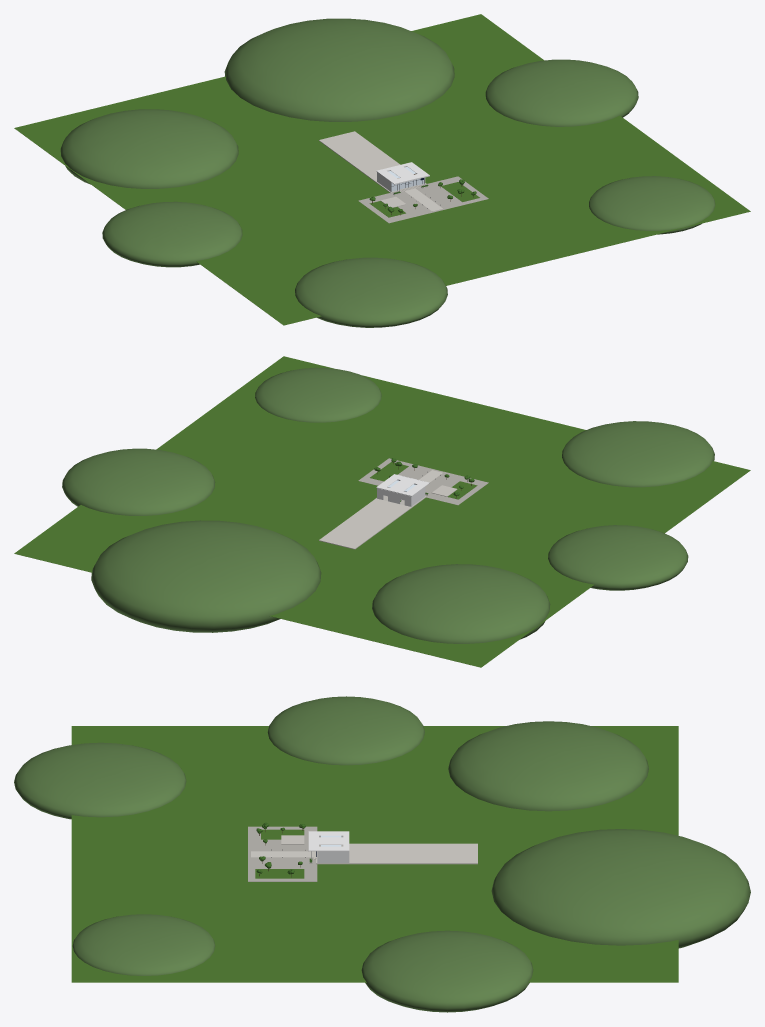
The picture shows the model from 3 angles, top to bottom: view 1: azimuth 30°, elevation 25°; view 2: azimuth 150°, elevation 25°; view 3: azimuth 270°, elevation 25°; orthographic projection. The views are drawn at different scales.
Visible parts, largest first — view 1: far, hq_static; view 2: far, hq_static; view 3: far, hq_static.
Boxes of the visible parts, x1,y1,x2,y2 form: far: (14, 14, 750, 327); hq_static: (319, 131, 488, 223); far: (14, 356, 750, 667); hq_static: (319, 458, 488, 549); far: (14, 696, 750, 1012); hq_static: (248, 822, 477, 881).
Size of the model in its own units: 505 by 48 by 510.
